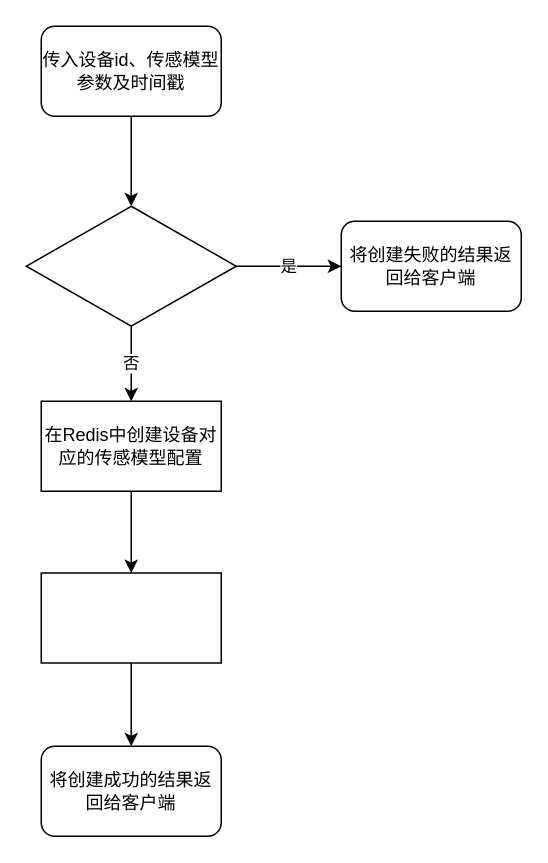
The diagram is 548 pixels wide and 863 high, and some of its shapes have lost their labels. Each missing label, with the centre of its shape:
"为设备设置传感模型的起始时间" goes at pixel 130 617.
"设备是否已经被配置" goes at pixel 130 265.
